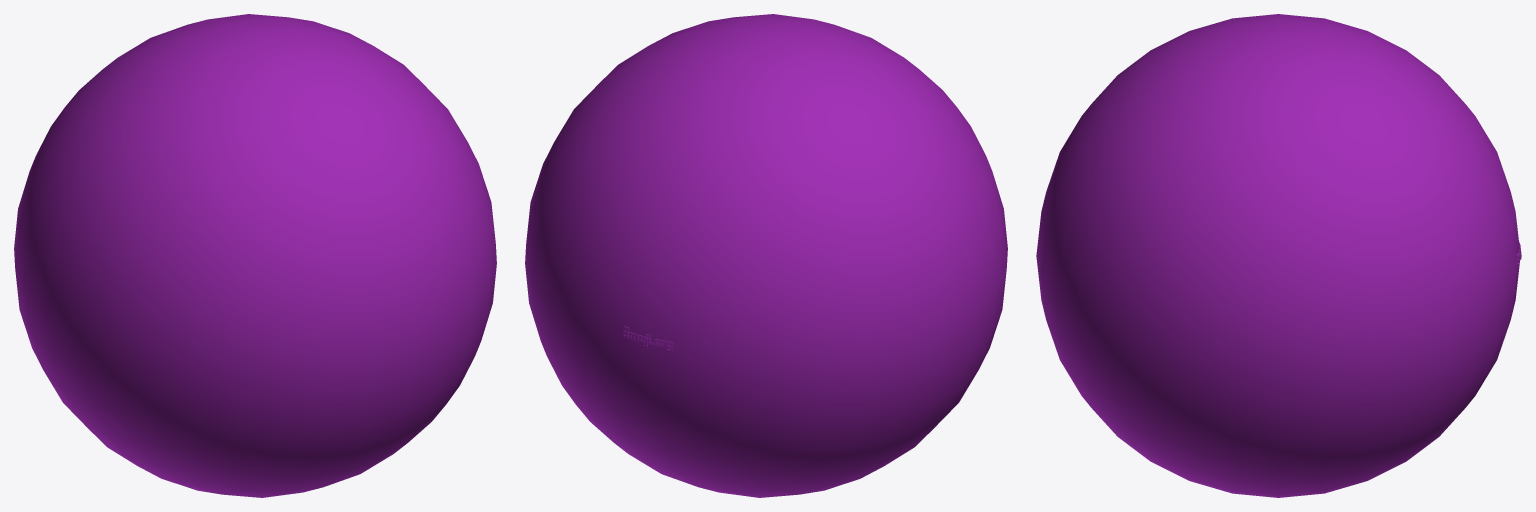
Rendered from purple_circle.fbx.
3 views of the same model, side by side, from view 1: azimuth 30°, elevation 25°; view 2: azimuth 150°, elevation 25°; view 3: azimuth 270°, elevation 25° (orthographic).
Parts seen in each view (by area): view 1: Cube.6667; view 2: Cube.6667; view 3: Cube.6667.
Boxes of the visible parts, x1,y1,x2,y2 form: Cube.6667: (14, 14, 496, 497); Cube.6667: (525, 14, 1007, 497); Cube.6667: (1036, 14, 1521, 497).
Size of the model in its own units: 223 by 223 by 223.
Materials: 1 (1 with a texture image).
